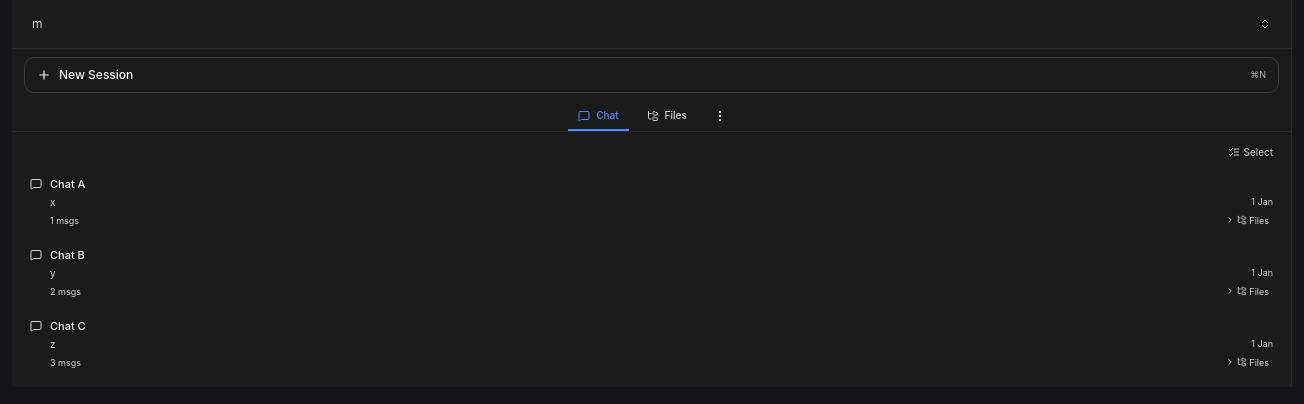
Scenario: LeftPanel multi-select › switches back to the Chat tab when forceChatTab is set (New Chat)
This screenshot has width=1304, height=404.
Note: Leave the Chat tab first so the switch is observable.
Click the tab "Files" at {"x": 667, "y": 116}, box [637, 102, 697, 131]
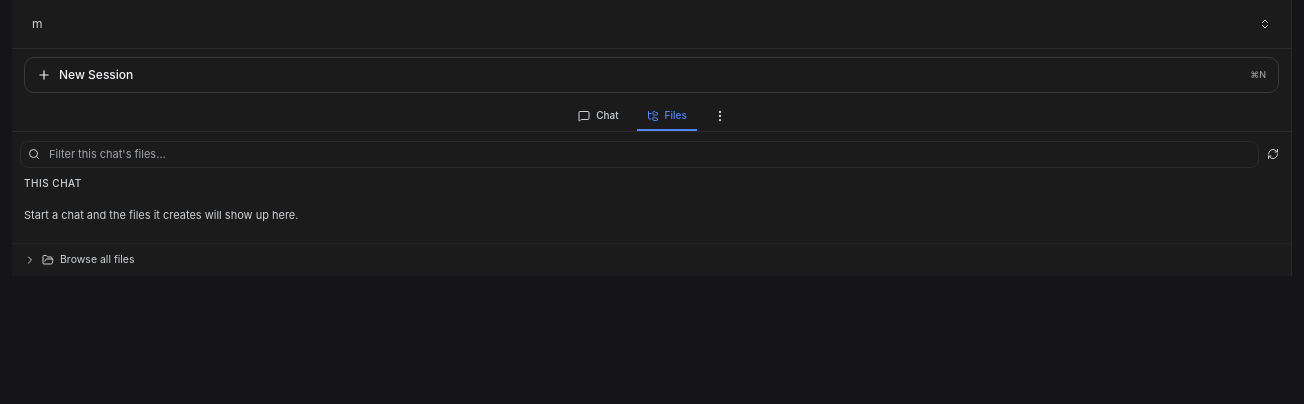
Result: the text "Start a chat and the files it creates will show up here." is shown at [24, 208, 298, 222]
